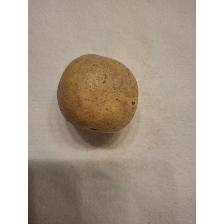Kartoffel: (55, 50, 141, 138)
